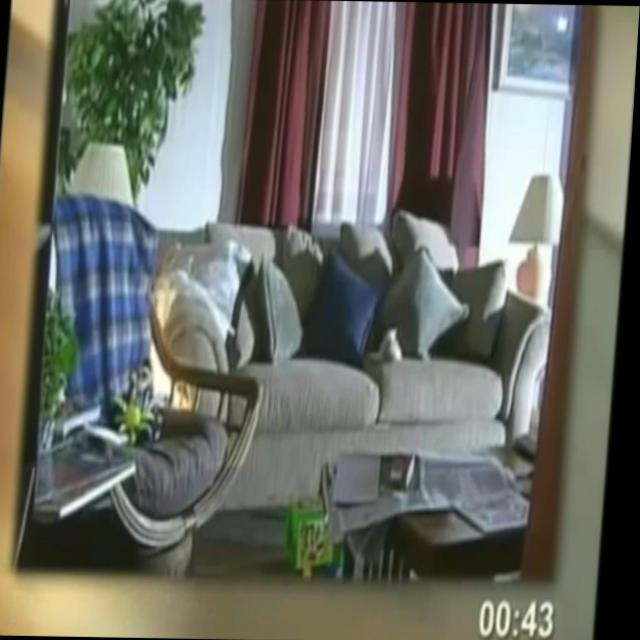fire: (144, 262, 208, 409)
